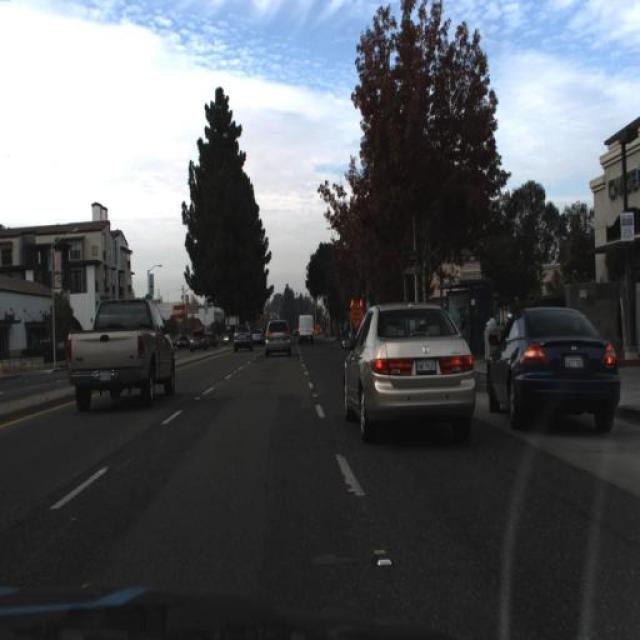car: (336, 293, 482, 452), (482, 297, 624, 438), (60, 290, 181, 410), (260, 312, 296, 363), (293, 305, 319, 353), (231, 316, 257, 356), (186, 324, 210, 360), (296, 312, 316, 342), (190, 331, 204, 352), (248, 326, 262, 346), (206, 332, 219, 351)
